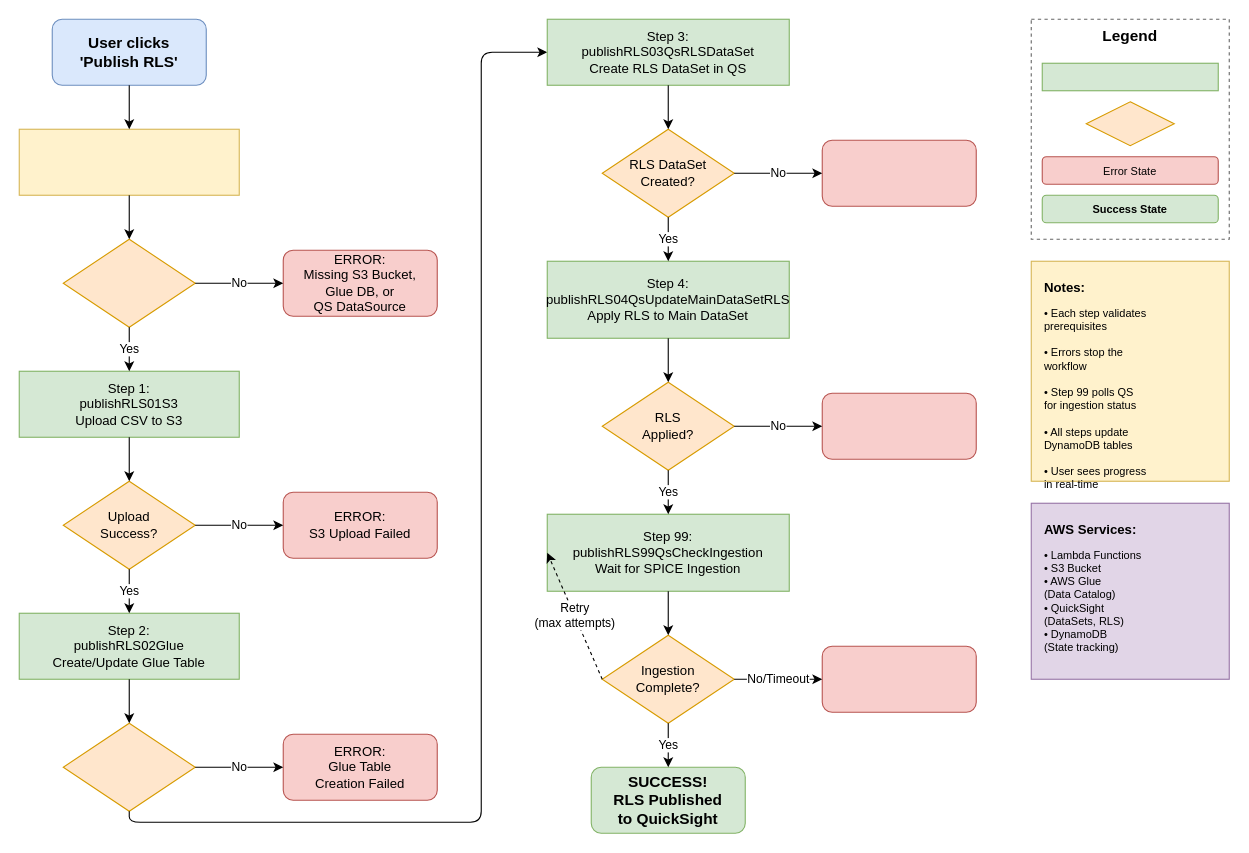
Image size: 1249x853. Some labels were removed from this diagram. The shapes that lost their labels are listed below. From the top down, each one's centre as x and y in pixels, then its label:
At point (1129, 76): "Lambda Function".
At point (1129, 123): "Decision Point".
At point (128, 161): "Step 0: publishRLS00ResourcesValidation".
At point (898, 172): "ERROR: RLS DataSet Creation Failed".
At point (128, 282): "Resources Valid?".
At point (898, 425): "ERROR: Failed to Apply RLS to DataSet".
At point (898, 678): "ERROR: Ingestion Timeout or Failed".
At point (128, 766): "Glue Table Created?".
